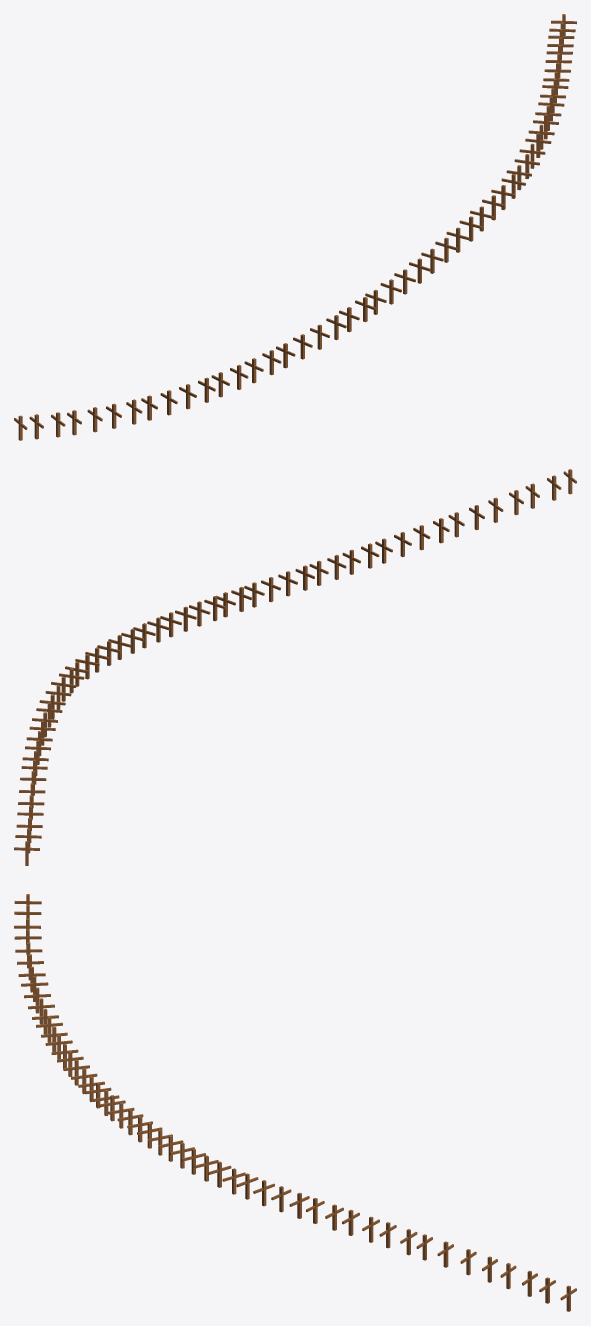
File: procgen-4c62ab19-post-x0z0.obj
The picture shows the model from 3 angles, top to bottom: view 1: azimuth 30°, elevation 25°; view 2: azimuth 210°, elevation 25°; view 3: azimuth 270°, elevation 25°; orthographic projection. The views are drawn at different scales.
Size of the model in its own units: 54.15 by 4.35 by 31.2.
